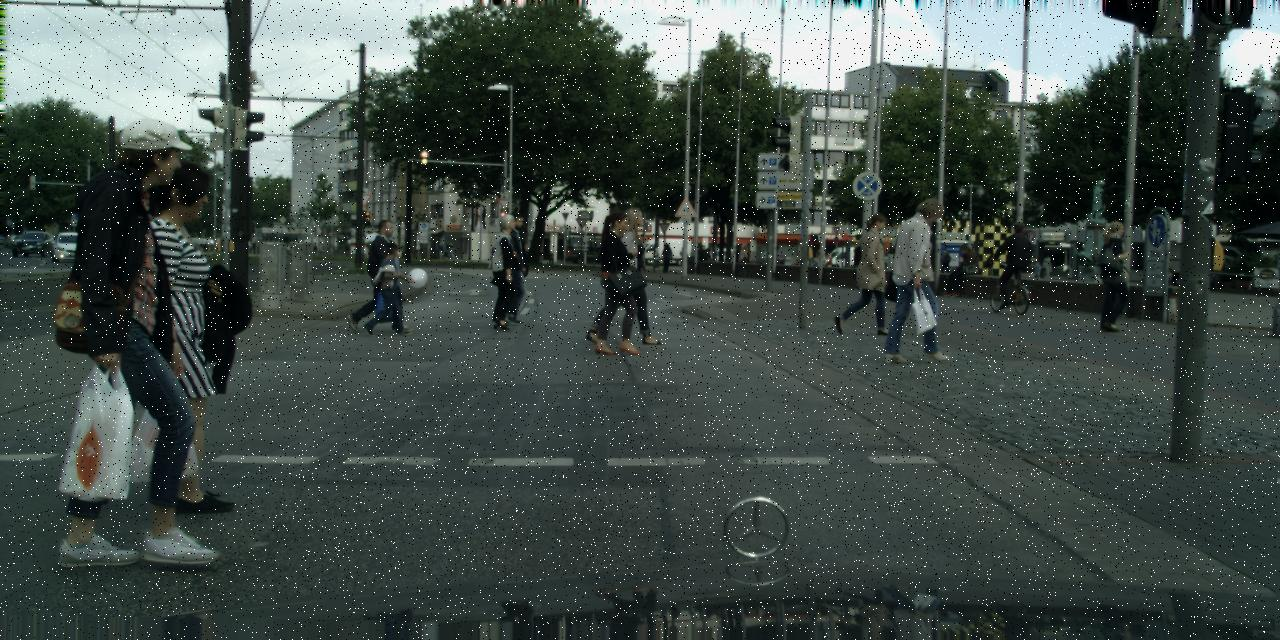ped: (48, 116, 230, 562), (90, 161, 232, 508), (891, 198, 958, 360), (590, 211, 648, 351), (598, 208, 654, 342), (844, 212, 894, 332), (480, 214, 526, 326), (1090, 221, 1135, 330), (358, 219, 402, 330), (490, 212, 534, 322), (369, 242, 406, 332), (1000, 222, 1032, 300), (660, 242, 672, 272), (939, 250, 950, 280), (1162, 268, 1173, 296), (696, 244, 706, 270), (1042, 254, 1052, 278), (776, 250, 786, 272), (762, 248, 772, 270), (824, 252, 834, 274), (536, 245, 544, 264), (437, 242, 445, 260), (1033, 262, 1040, 280), (446, 242, 452, 259)
